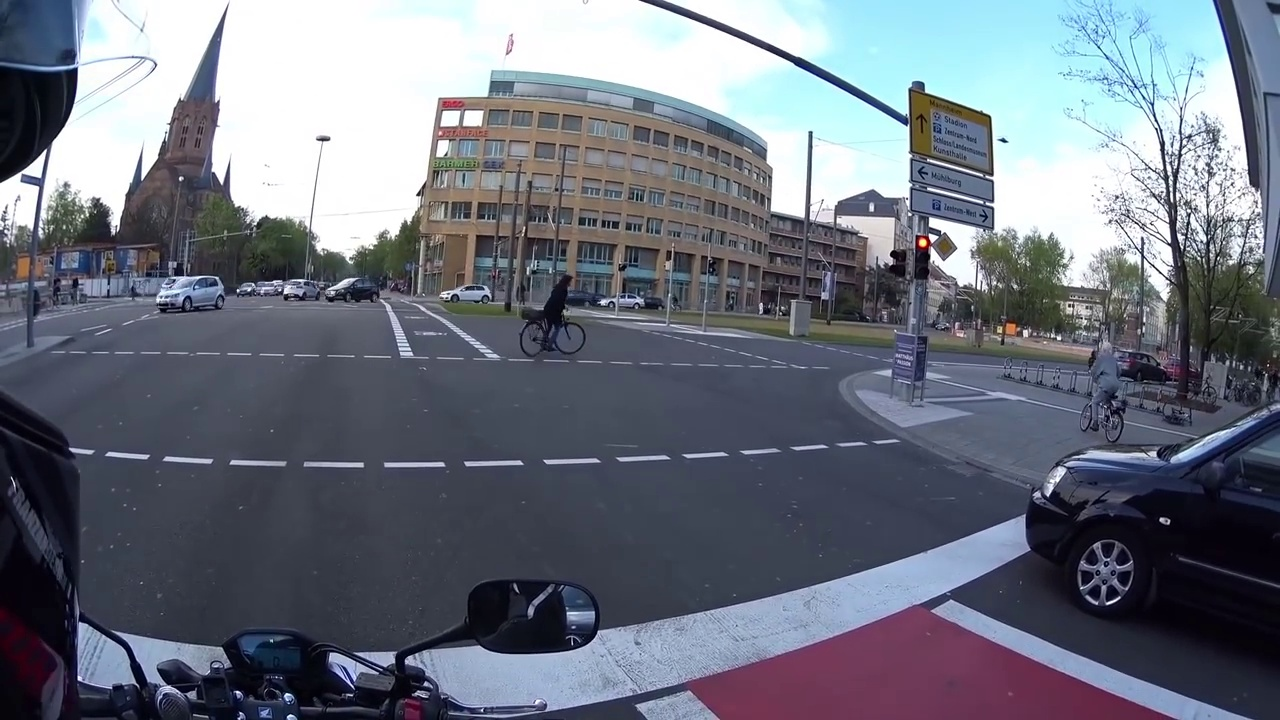cyclist_back: (1074, 336, 1129, 440)
cyclist_side: (514, 265, 591, 357)
